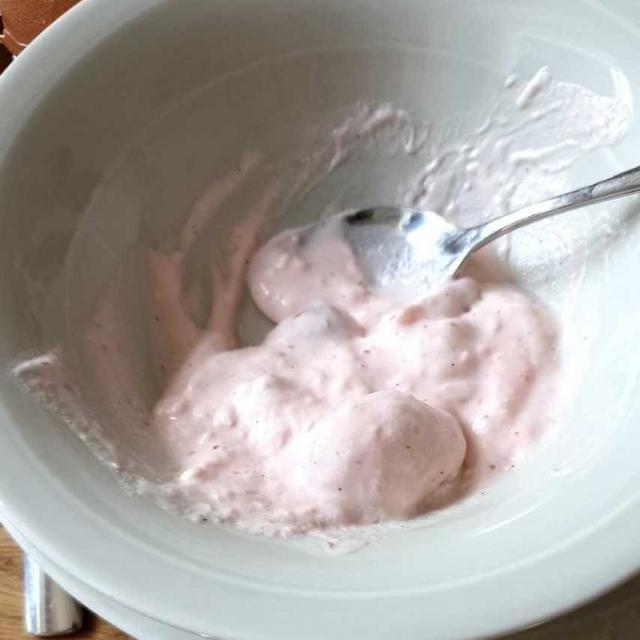strawberries: (50, 186, 553, 522)
